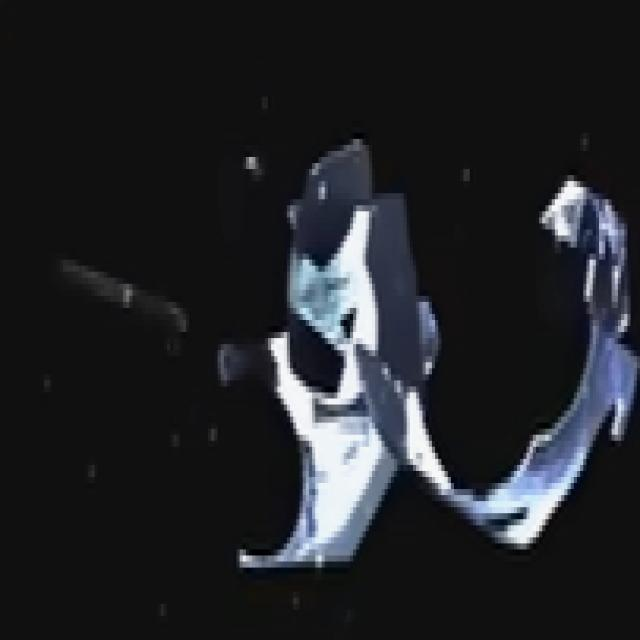large_debris: (222, 126, 638, 608)
